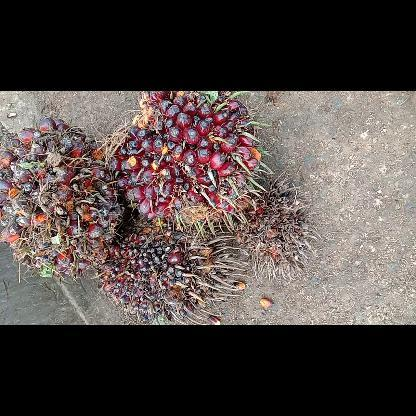TBS abnormal: (96, 214, 252, 324), (235, 174, 316, 284)
TBS masak: (104, 92, 272, 240), (0, 114, 126, 282)
